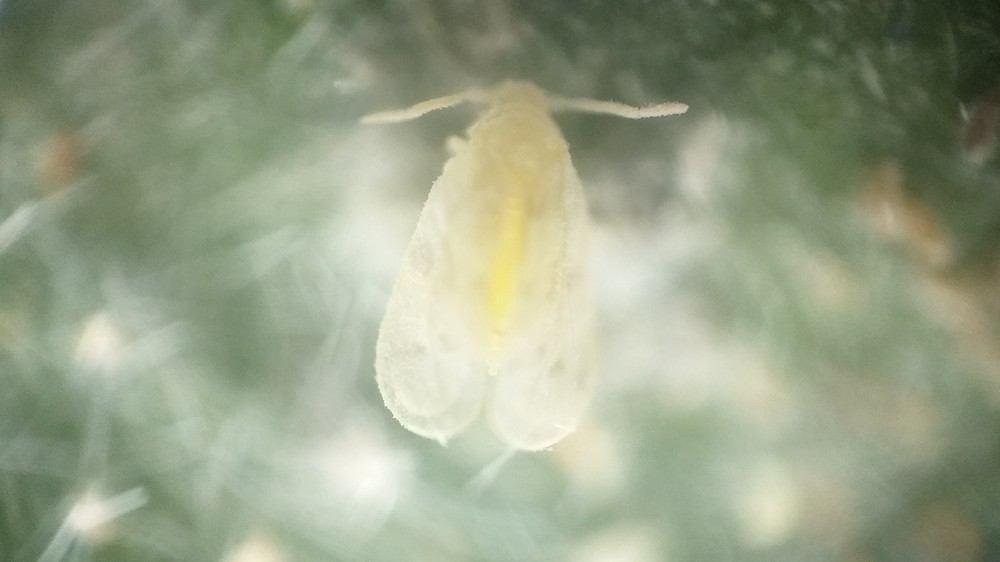Mosca Blanca: (321, 63, 713, 493)
